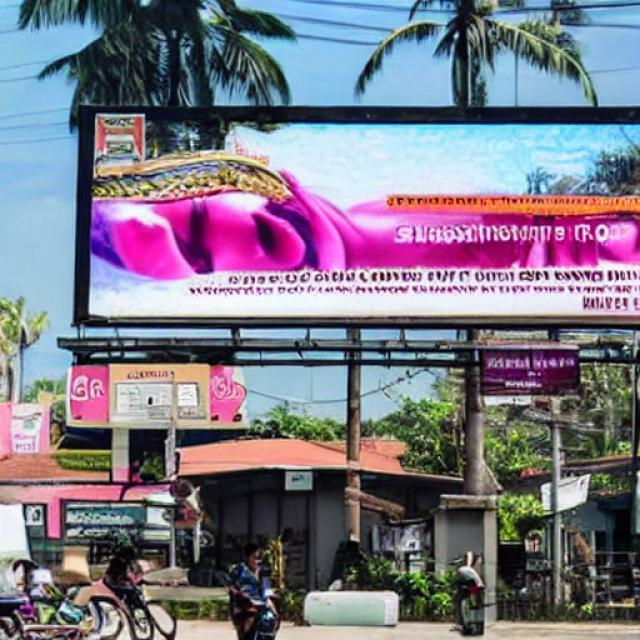Billboard: (75, 104, 640, 330)
